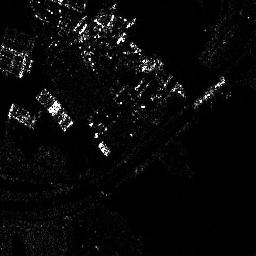ship: (35, 88, 75, 131), (5, 103, 37, 130)
